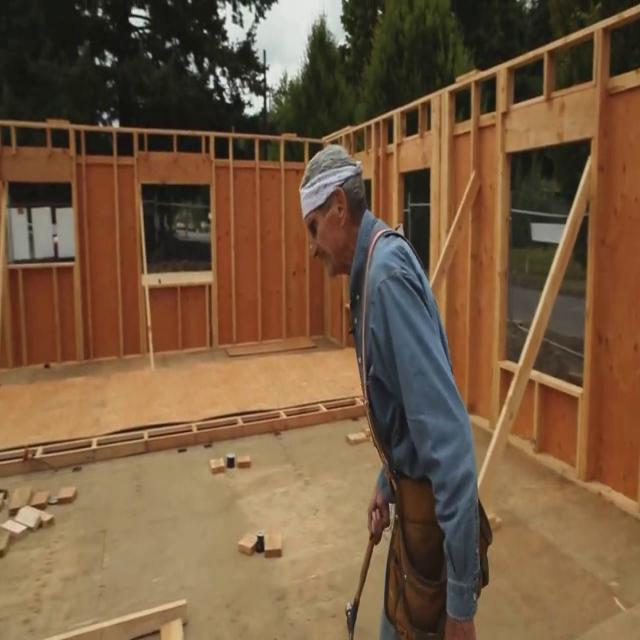hammer: (345, 504, 379, 640)
